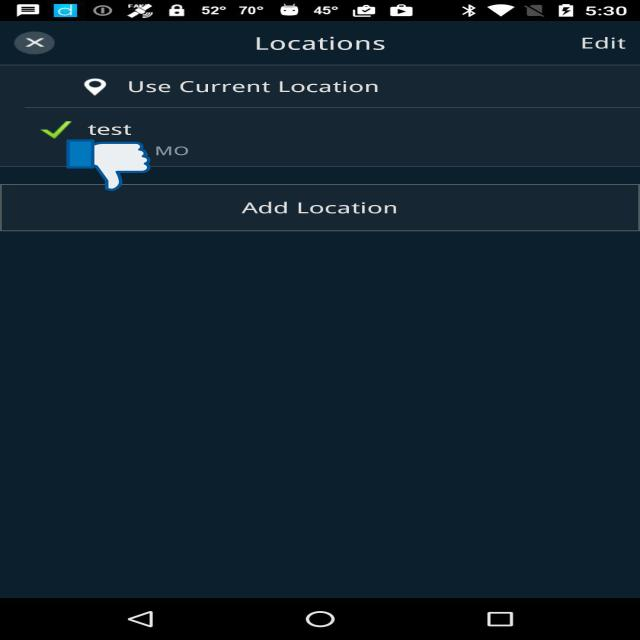obstruction: (66, 138, 150, 192)
